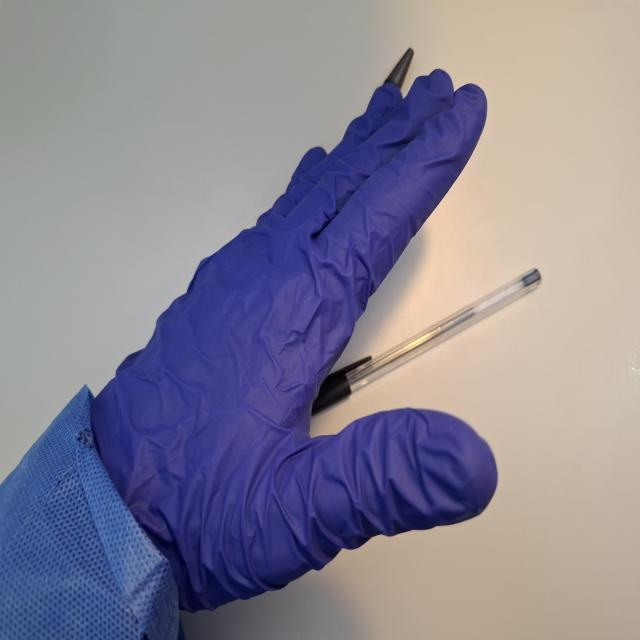glove_on: (81, 65, 502, 618)
